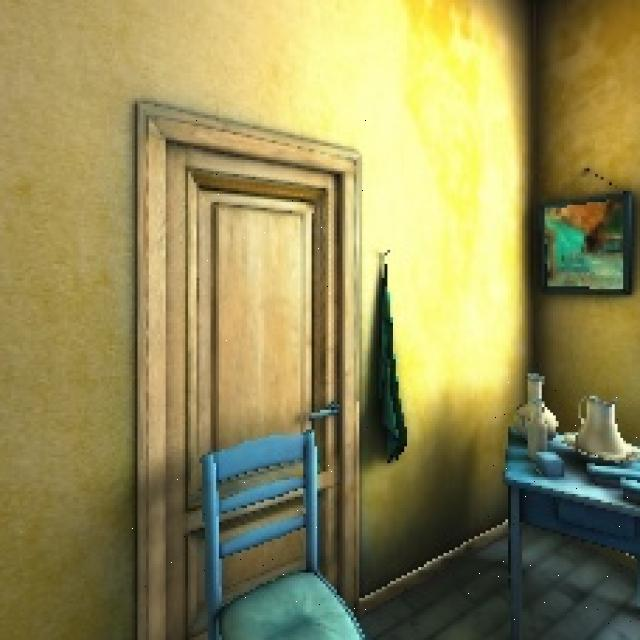chair: (166, 421, 373, 640)
door: (126, 87, 376, 640)
table: (466, 382, 640, 640)
